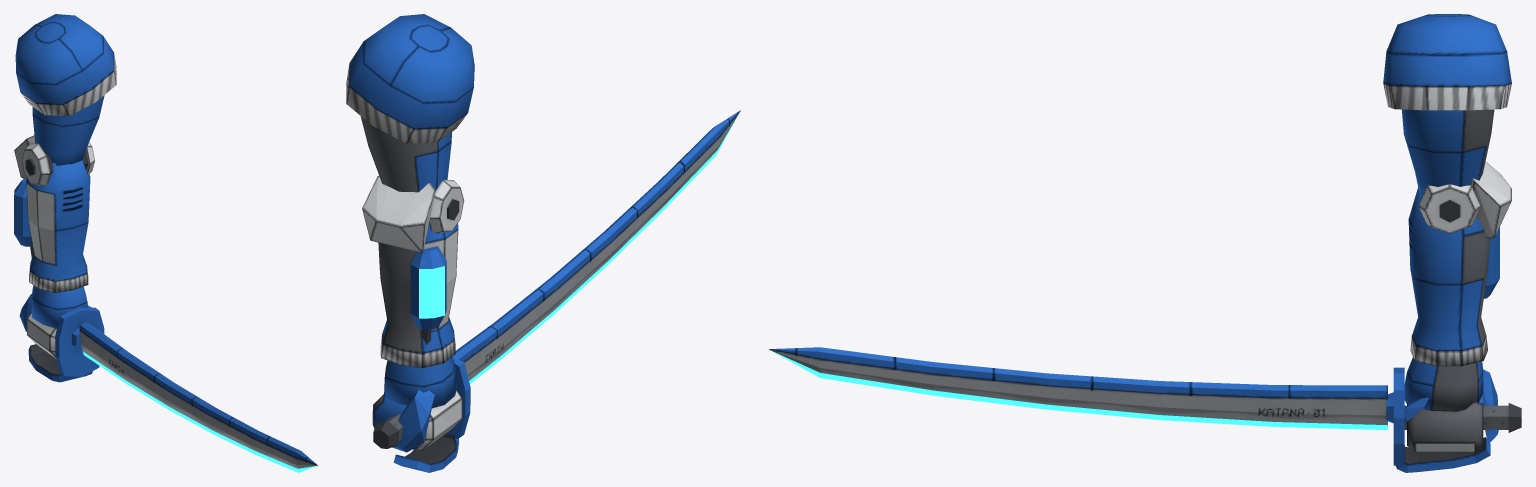
The model's file is LeftKatanaSwordArmX.glb.
3 views of the same model, side by side, from view 1: azimuth 30°, elevation 25°; view 2: azimuth 150°, elevation 25°; view 3: azimuth 270°, elevation 25° (orthographic). The views are drawn at different scales.
Parts seen in each view (by area): view 1: LeftKatanaSwordArmX_Fist, LeftKatanaSwordArmX_Upper, LeftKatanaSwordArmX_Fore; view 2: LeftKatanaSwordArmX_Fist, LeftKatanaSwordArmX_Upper, LeftKatanaSwordArmX_Fore; view 3: LeftKatanaSwordArmX_Fist, LeftKatanaSwordArmX_Upper, LeftKatanaSwordArmX_Fore.
Part boxes in pixels (x1,y1,x2,y2): LeftKatanaSwordArmX_Fist: (19,285,317,472); LeftKatanaSwordArmX_Upper: (15,14,116,165); LeftKatanaSwordArmX_Fore: (14,135,94,292); LeftKatanaSwordArmX_Fist: (372,110,740,472); LeftKatanaSwordArmX_Upper: (346,14,474,192); LeftKatanaSwordArmX_Fore: (362,176,464,368); LeftKatanaSwordArmX_Fist: (769,347,1521,472); LeftKatanaSwordArmX_Upper: (1383,14,1511,196); LeftKatanaSwordArmX_Fore: (1408,161,1511,366).
Size of the model in its own units: 4.12 by 15.75 by 23.65.
6 materials, 5 textured.
